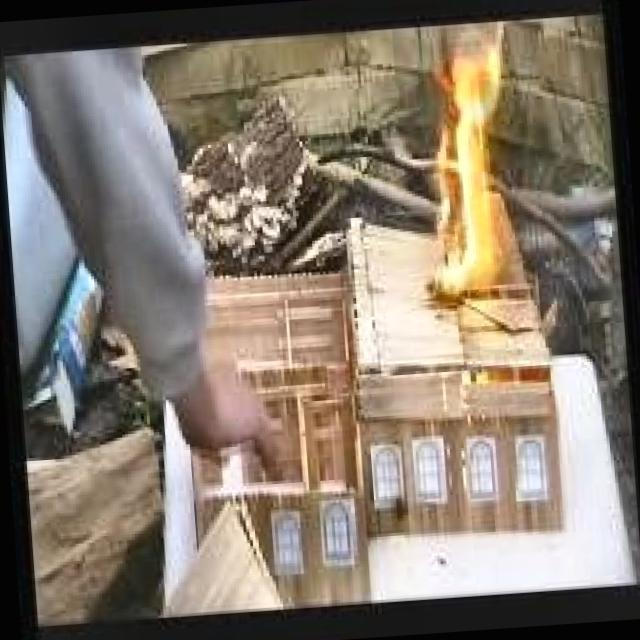fire: (407, 46, 524, 300)
